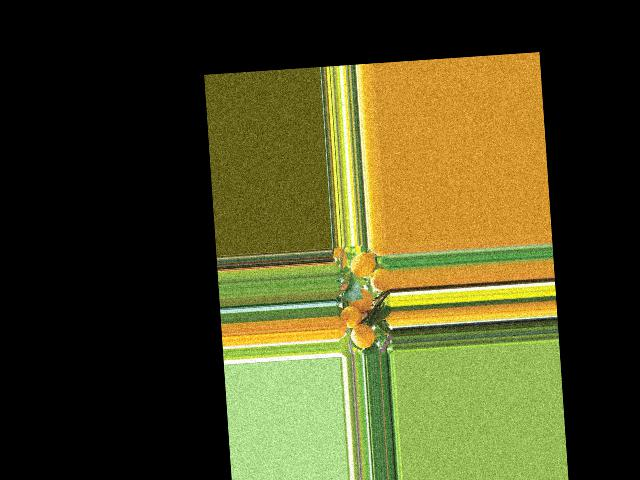lemon: (347, 321, 374, 351)
